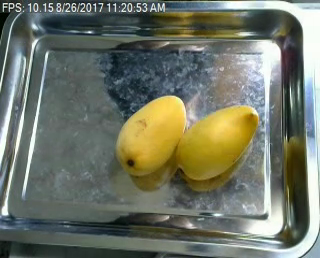Mango: (175, 104, 257, 180), (115, 95, 187, 170)
